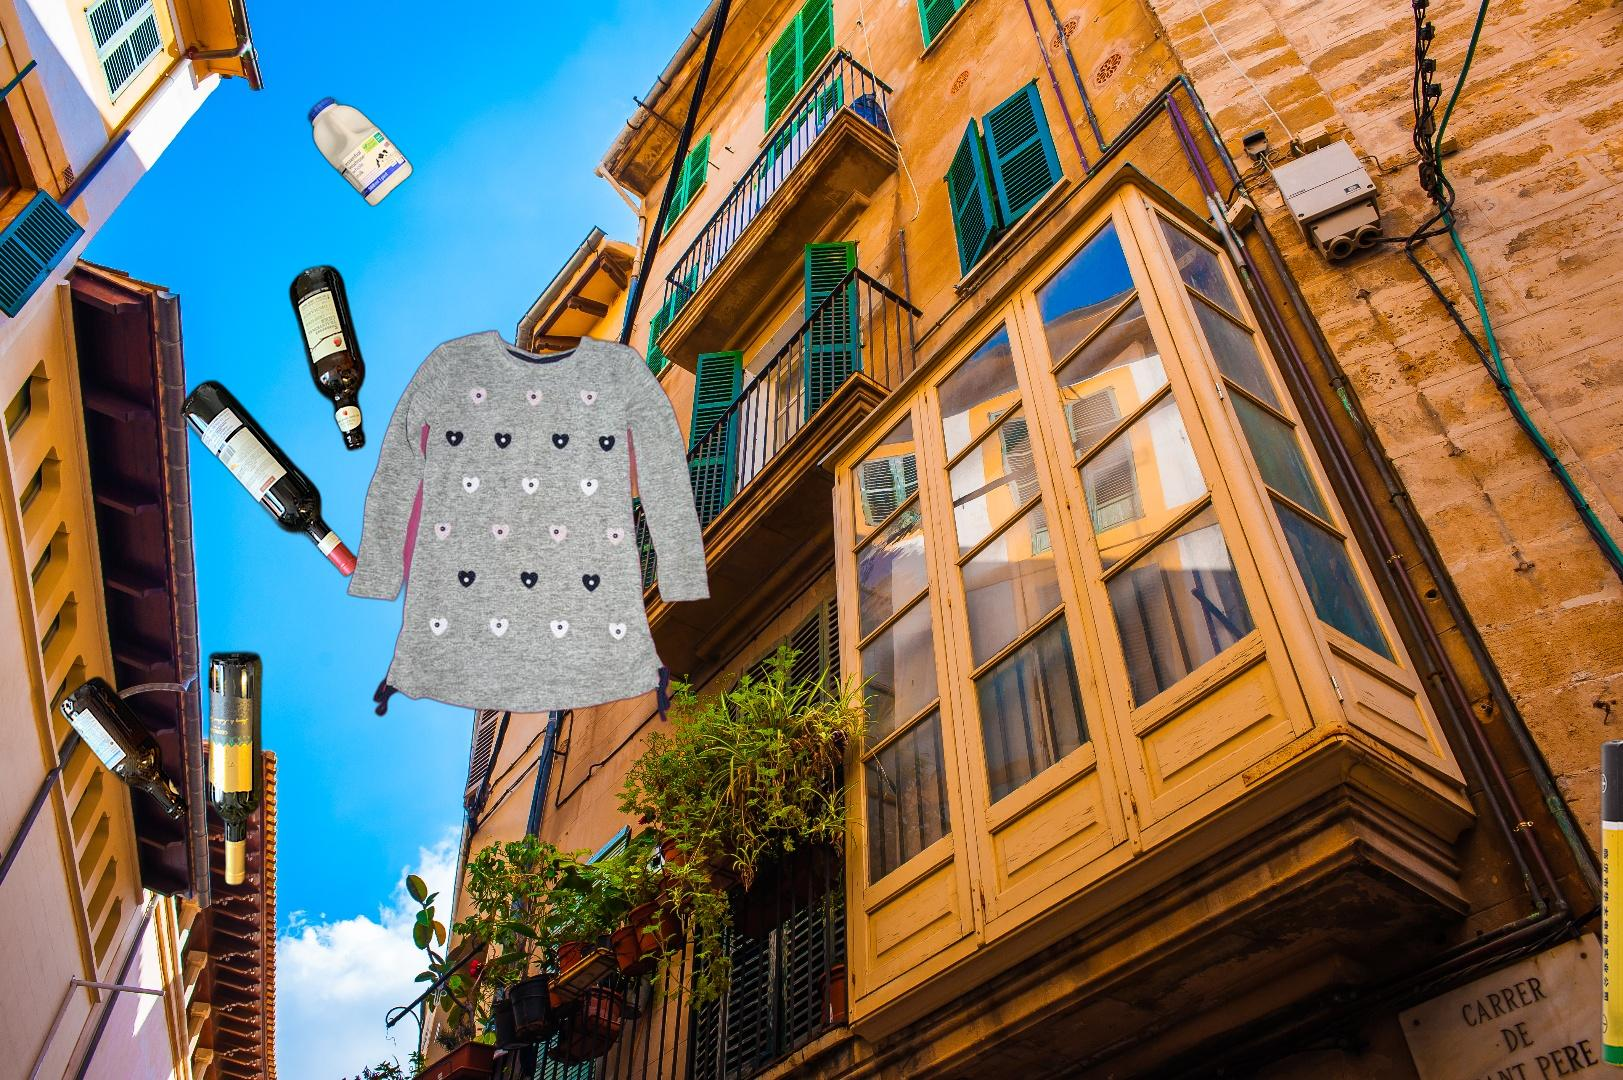battery: (1594, 727, 1623, 1080)
clothes: (345, 325, 715, 727)
glass: (55, 260, 370, 891)
plastic-bottles: (304, 94, 417, 210)
